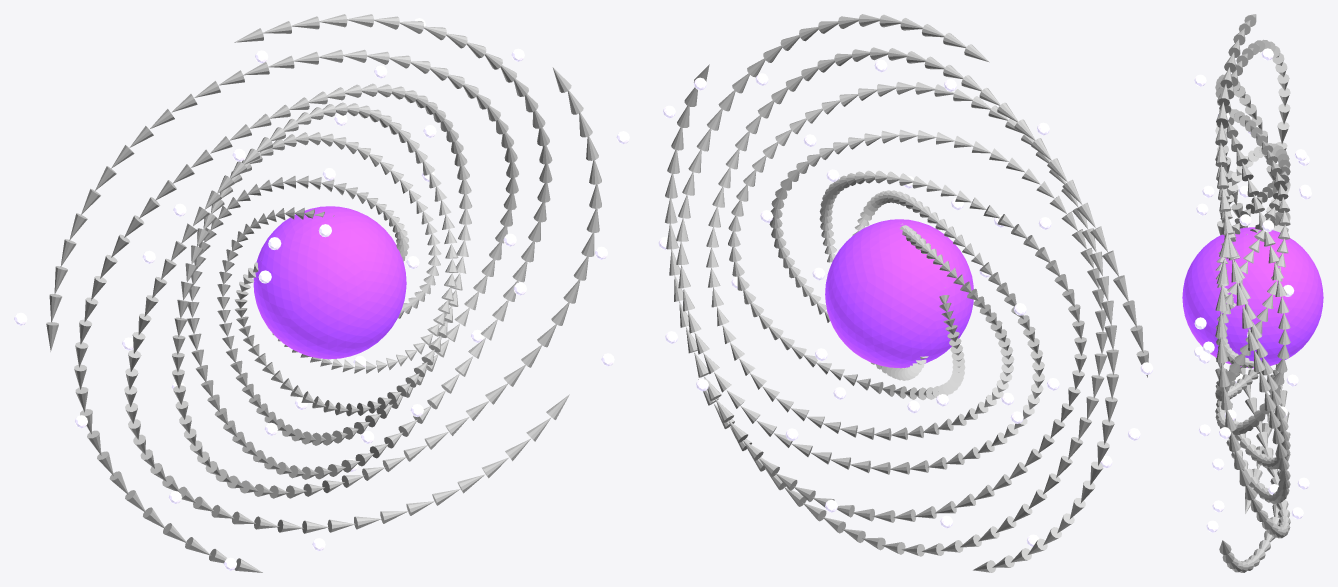
The model's file is nebula.glb.
The picture shows the model from 3 angles, left to right: view 1: azimuth 30°, elevation 25°; view 2: azimuth 150°, elevation 25°; view 3: azimuth 270°, elevation 25°; orthographic projection. The views are drawn at different scales.
Parts seen in each view (by area): view 1: nebula_part_000, nebula_part_002, nebula_part_005, nebula_part_003, nebula_part_001, nebula_part_004; view 2: nebula_part_000, nebula_part_001, nebula_part_005, nebula_part_002, nebula_part_004, nebula_part_003; view 3: nebula_part_000, nebula_part_004, nebula_part_005, nebula_part_003, nebula_part_001, nebula_part_002.
Part boxes in pixels (x1=…): nebula_part_000: x1=253, y1=206, x2=406, y2=359; nebula_part_002: x1=74, y1=83, x2=472, y2=572; nebula_part_005: x1=187, y1=14, x2=552, y2=479; nebula_part_003: x1=124, y1=102, x2=569, y2=533; nebula_part_001: x1=46, y1=49, x2=518, y2=445; nebula_part_004: x1=172, y1=67, x2=601, y2=498; nebula_part_000: x1=825, y1=219, x2=973, y2=368; nebula_part_001: x1=706, y1=47, x2=1148, y2=440; nebula_part_005: x1=676, y1=14, x2=1044, y2=474; nebula_part_002: x1=728, y1=82, x2=1118, y2=572; nebula_part_004: x1=665, y1=64, x2=1086, y2=522; nebula_part_003: x1=698, y1=129, x2=1107, y2=556; nebula_part_000: x1=1182, y1=227, x2=1323, y2=368; nebula_part_004: x1=1215, y1=143, x2=1290, y2=538; nebula_part_005: x1=1215, y1=14, x2=1290, y2=503; nebula_part_003: x1=1215, y1=108, x2=1290, y2=572; nebula_part_001: x1=1215, y1=39, x2=1290, y2=469; nebula_part_002: x1=1215, y1=74, x2=1290, y2=513.
Size of the model in its own units: 2.65 by 2.48 by 0.63.
